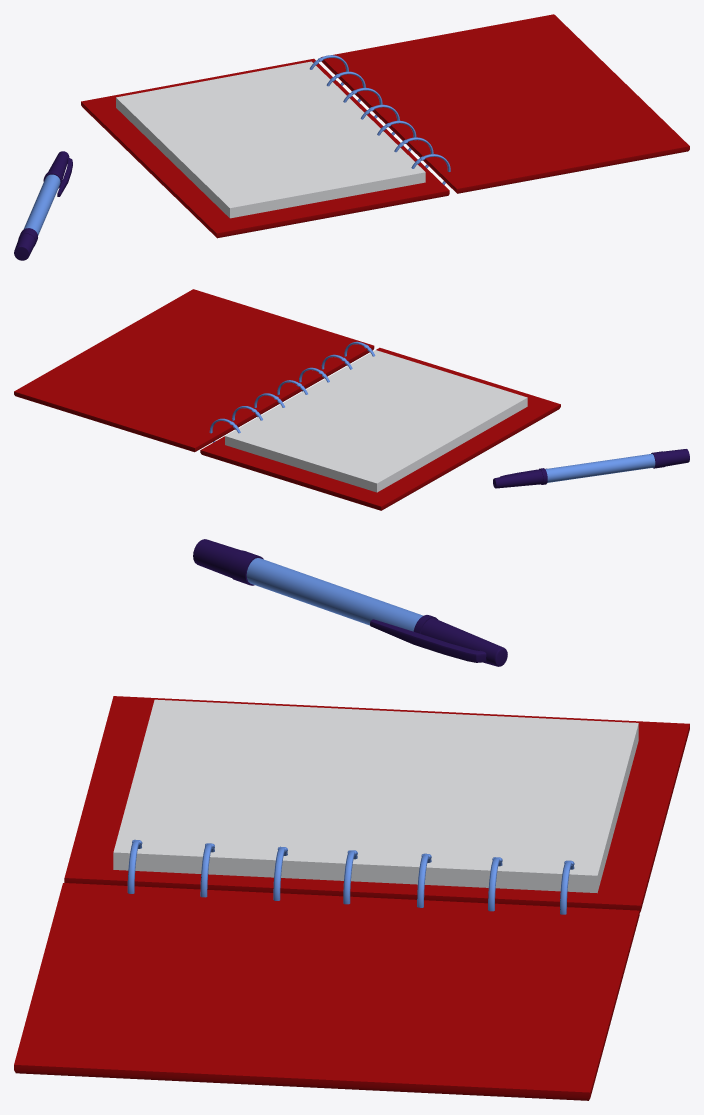
The model's file is notebook-pen.fbx.
3 renders of one model, top to bottom at view 1: azimuth 30°, elevation 25°; view 2: azimuth 150°, elevation 25°; view 3: azimuth 270°, elevation 25°, orthographic. The views are drawn at different scales.
Parts seen in each view (by area): view 1: Notebook and Pen; view 2: Notebook and Pen; view 3: Notebook and Pen.
Part boxes in pixels (<box>): Notebook and Pen: <box>14,14,689,260</box>; Notebook and Pen: <box>14,289,689,510</box>; Notebook and Pen: <box>14,539,689,1100</box>.
Size of the model in its own units: 509 by 27.78 by 268.
